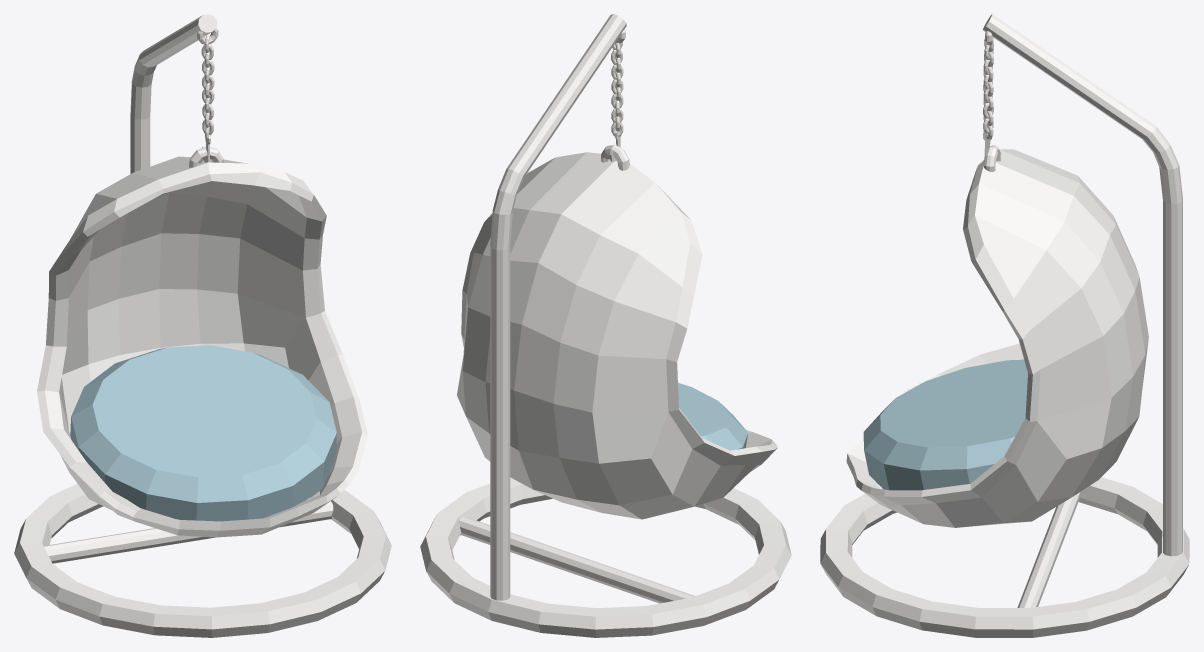
Rendered from Chair_8.fbx.
3 renders of one model, left to right at view 1: azimuth 30°, elevation 25°; view 2: azimuth 150°, elevation 25°; view 3: azimuth 270°, elevation 25°, orthographic.
Parts seen in each view (by area): view 1: Chair_8; view 2: Chair_8; view 3: Chair_8.
Boxes of the visible parts, x1=… form: Chair_8: x1=14, y1=14, x2=391, y2=637; Chair_8: x1=420, y1=14, x2=791, y2=637; Chair_8: x1=820, y1=14, x2=1189, y2=637.
Size of the model in its own units: 188 by 188 by 306.
